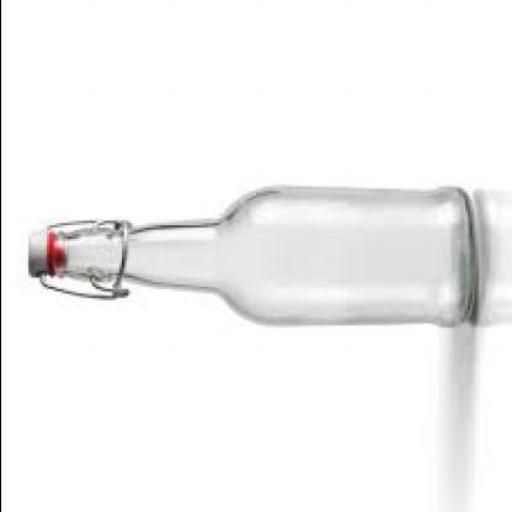glass: (50, 184, 471, 328)
plastic: (25, 228, 43, 276)
